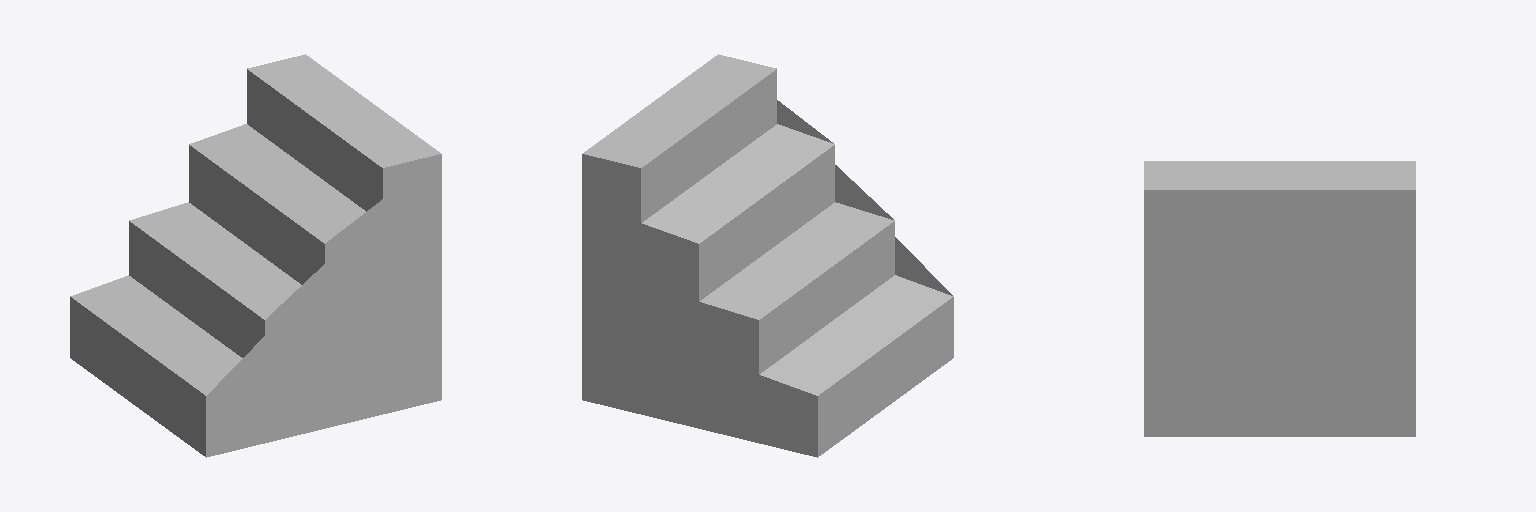
File: stair.obj
The picture shows the model from 3 angles: view 1: azimuth 30°, elevation 25°; view 2: azimuth 150°, elevation 25°; view 3: azimuth 270°, elevation 25°; orthographic projection.
Visible parts, largest first — view 1: pCube1; view 2: pCube1; view 3: pCube1.
Part boxes in pixels (left/top/right/bottom): pCube1: left=70, top=54, right=441, bottom=457; pCube1: left=582, top=54, right=953, bottom=457; pCube1: left=1144, top=161, right=1415, bottom=436.
Bounding box in the file's own units: 100 × 100 × 100.